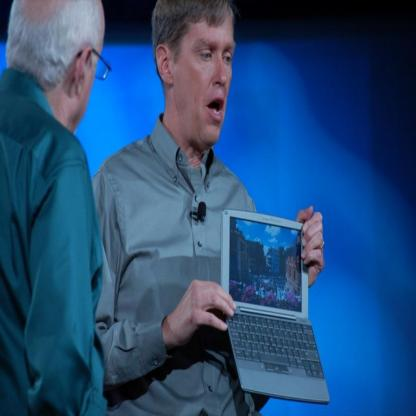board: (214, 198, 332, 415)
